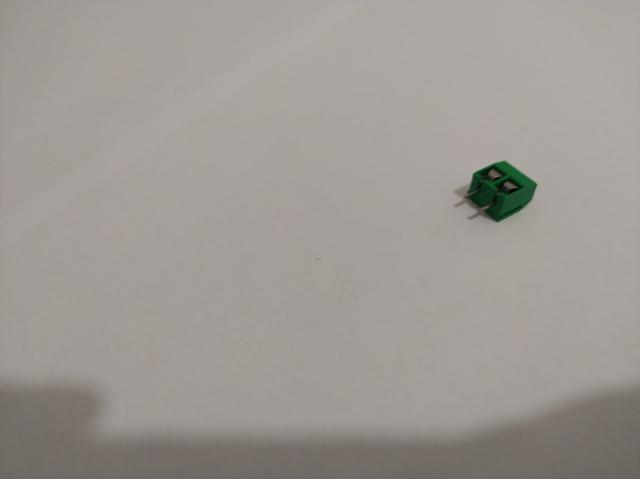terminal_block: (464, 160, 538, 224)
